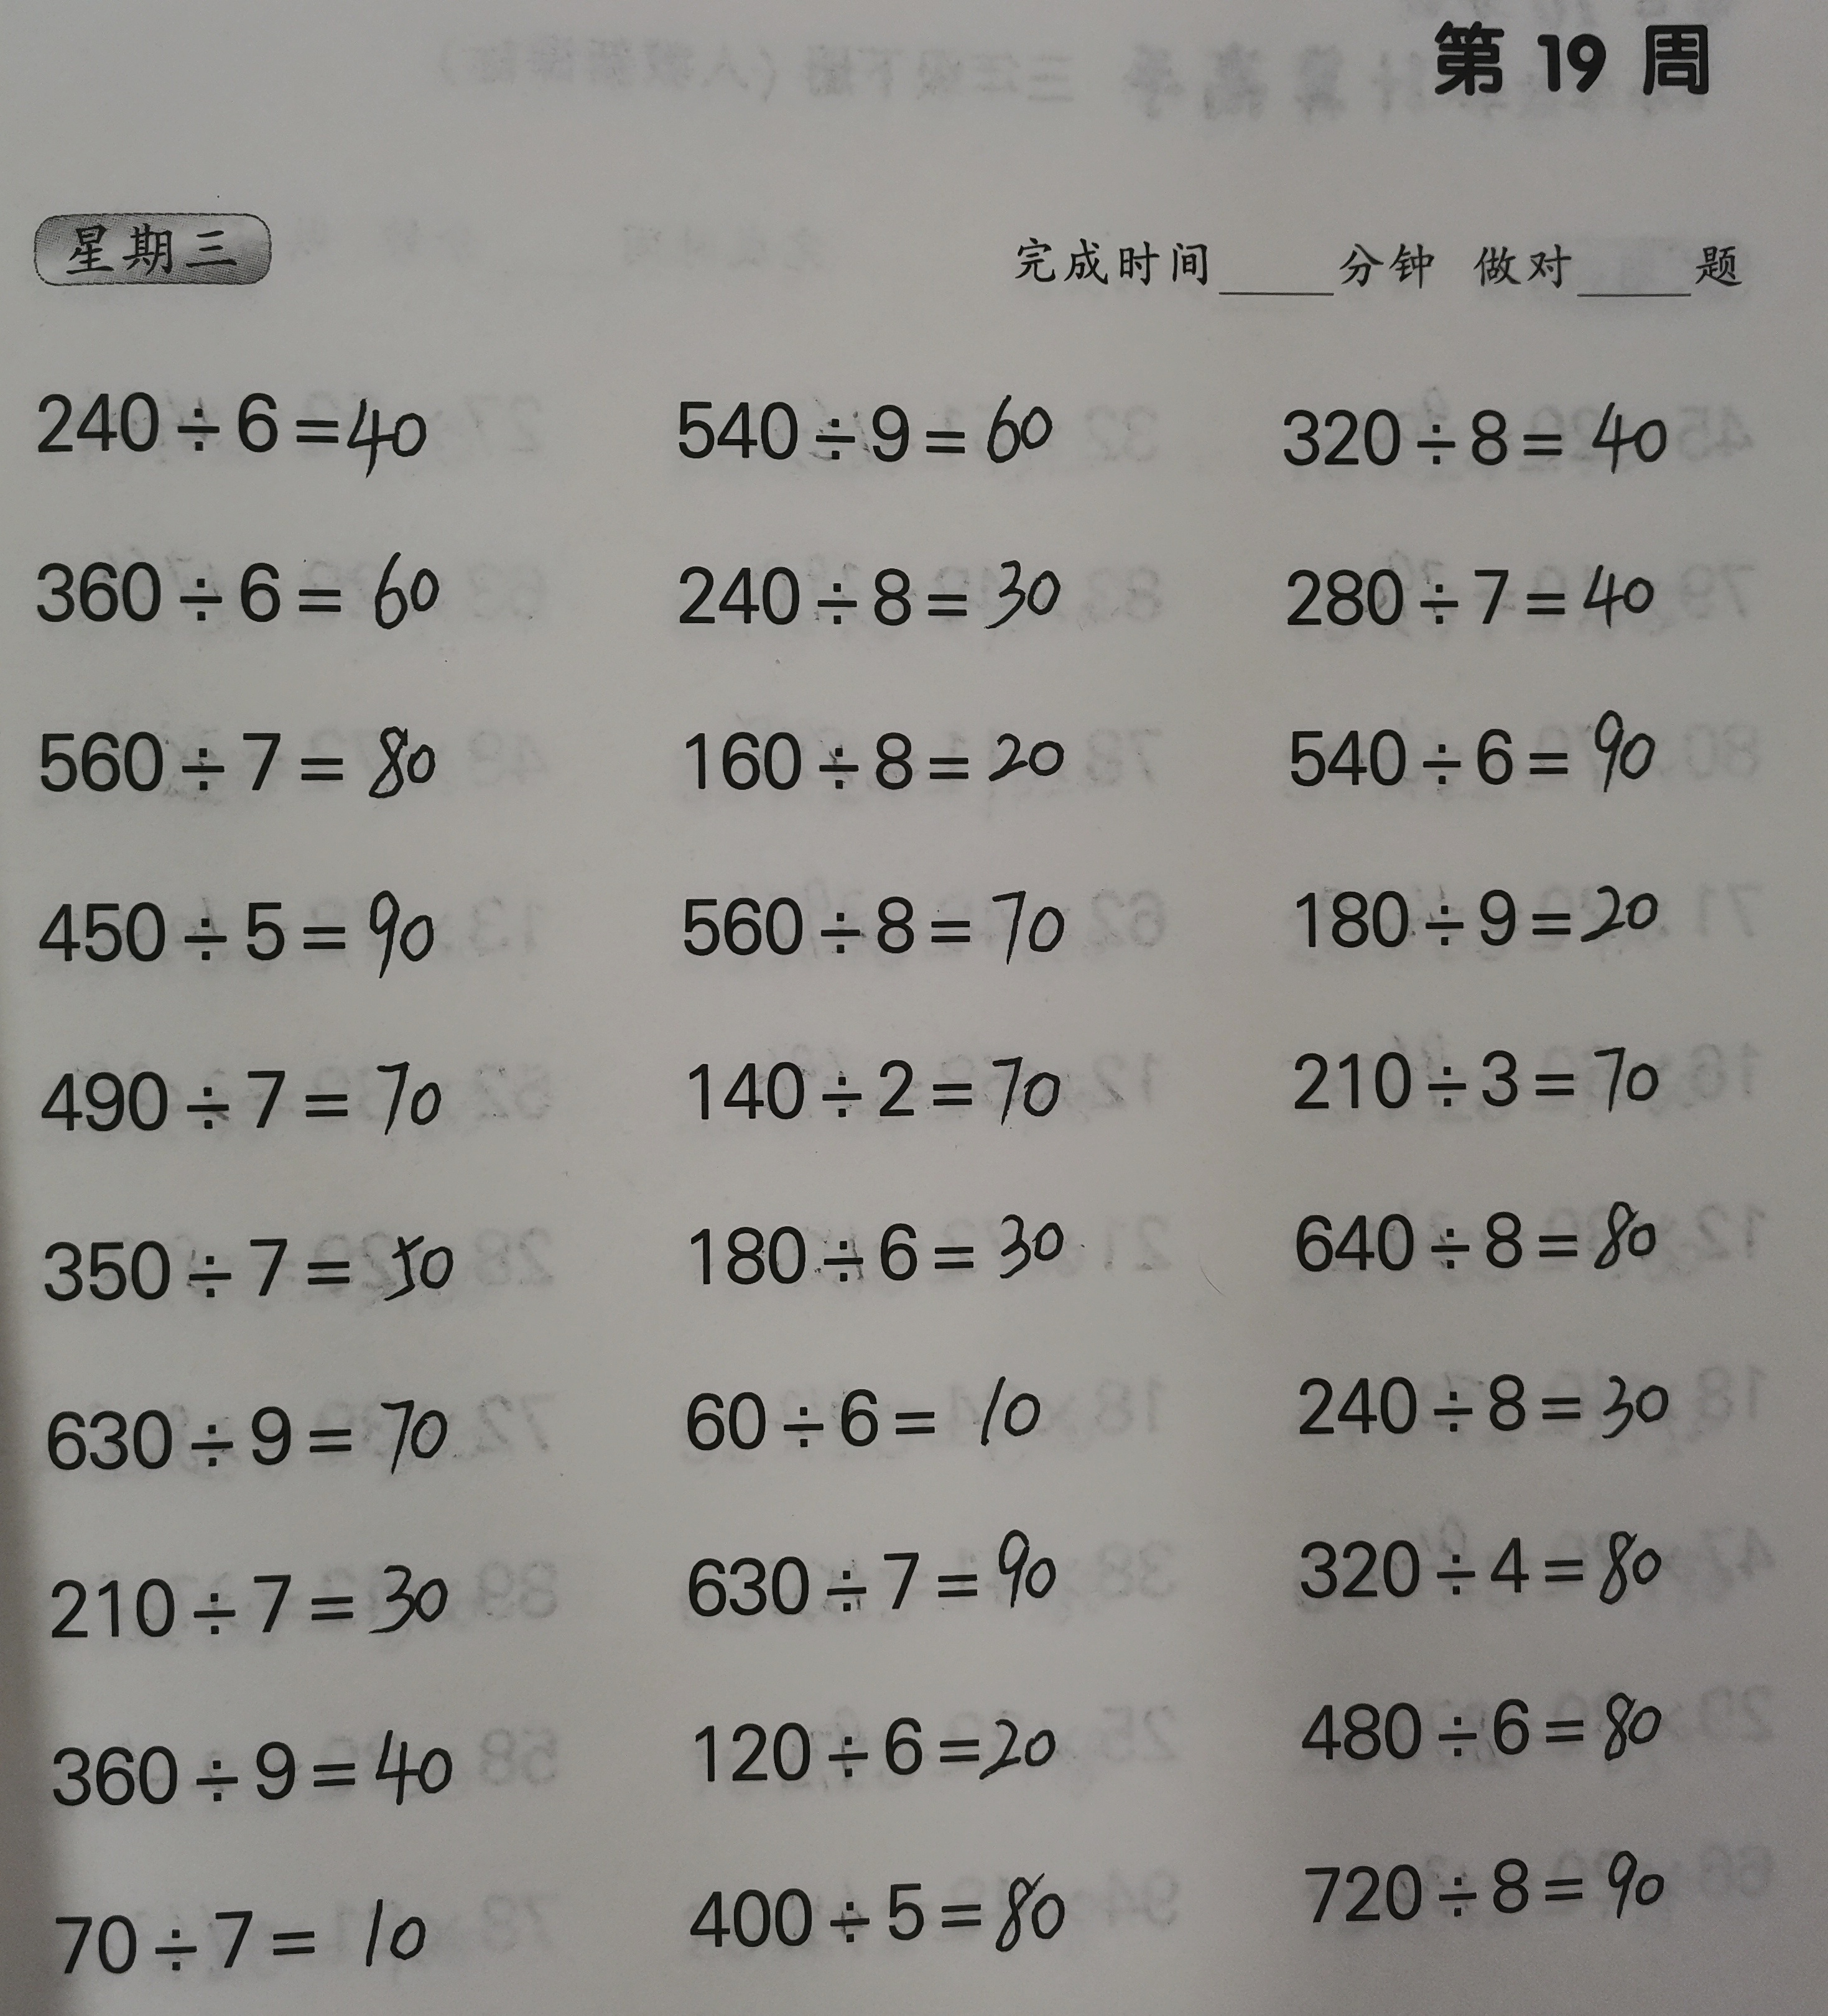equation: (657, 355, 1096, 488), (1256, 372, 1714, 497), (30, 353, 439, 488), (1263, 1006, 1707, 1129), (21, 868, 460, 990), (25, 1210, 469, 1331), (1271, 1500, 1702, 1624), (659, 1847, 1106, 1967), (646, 1189, 1119, 1301), (32, 1384, 474, 1503), (1268, 683, 1700, 804), (676, 1519, 1119, 1637), (660, 530, 1105, 646), (28, 697, 458, 817), (1284, 1663, 1707, 1784), (1280, 525, 1691, 650), (657, 862, 1098, 978), (40, 1876, 474, 1993), (23, 1038, 469, 1152), (674, 1689, 1106, 1807), (1280, 841, 1700, 959), (42, 1717, 485, 1825), (666, 697, 1087, 810), (651, 1359, 1082, 1468), (1275, 1184, 1696, 1294), (37, 1547, 464, 1656), (25, 537, 471, 639), (1284, 1837, 1731, 1935), (1275, 1347, 1702, 1449), (676, 1041, 1092, 1143)
